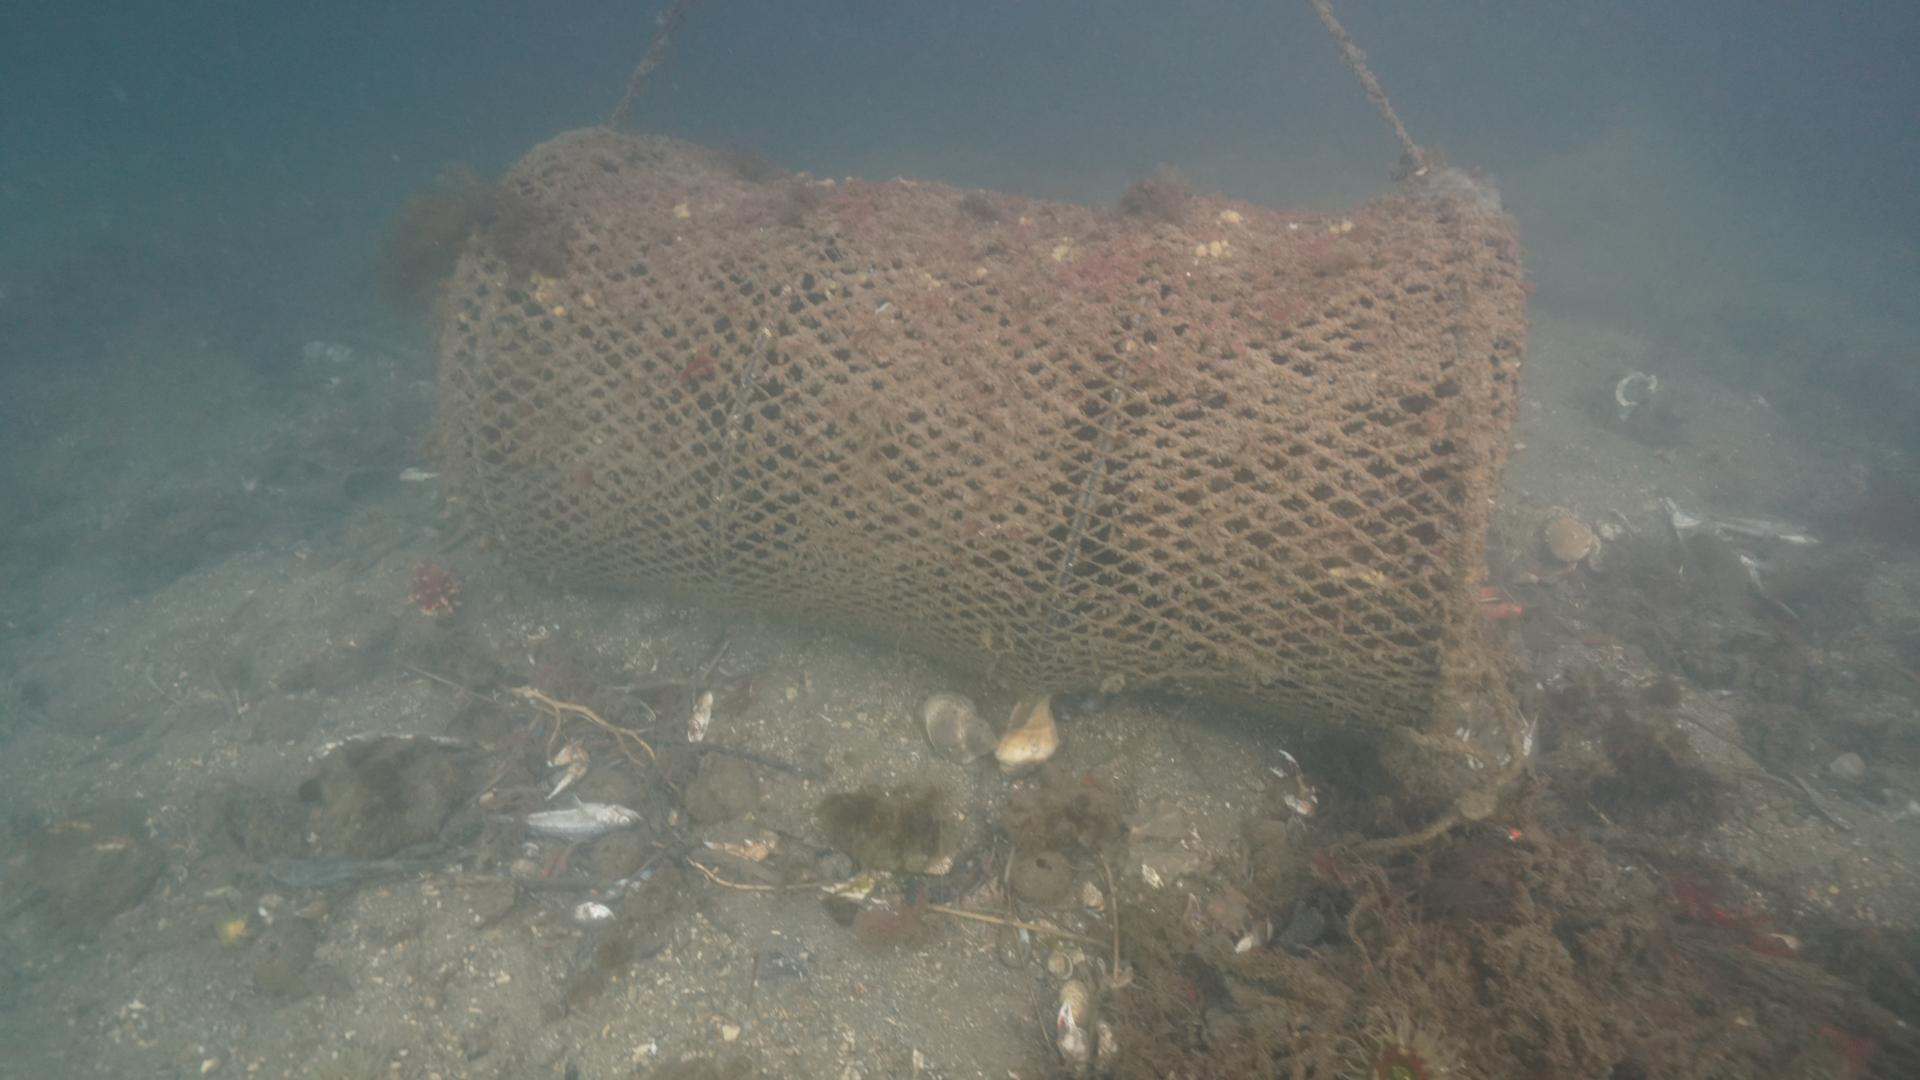spring fish trap: (433, 117, 1520, 745)
